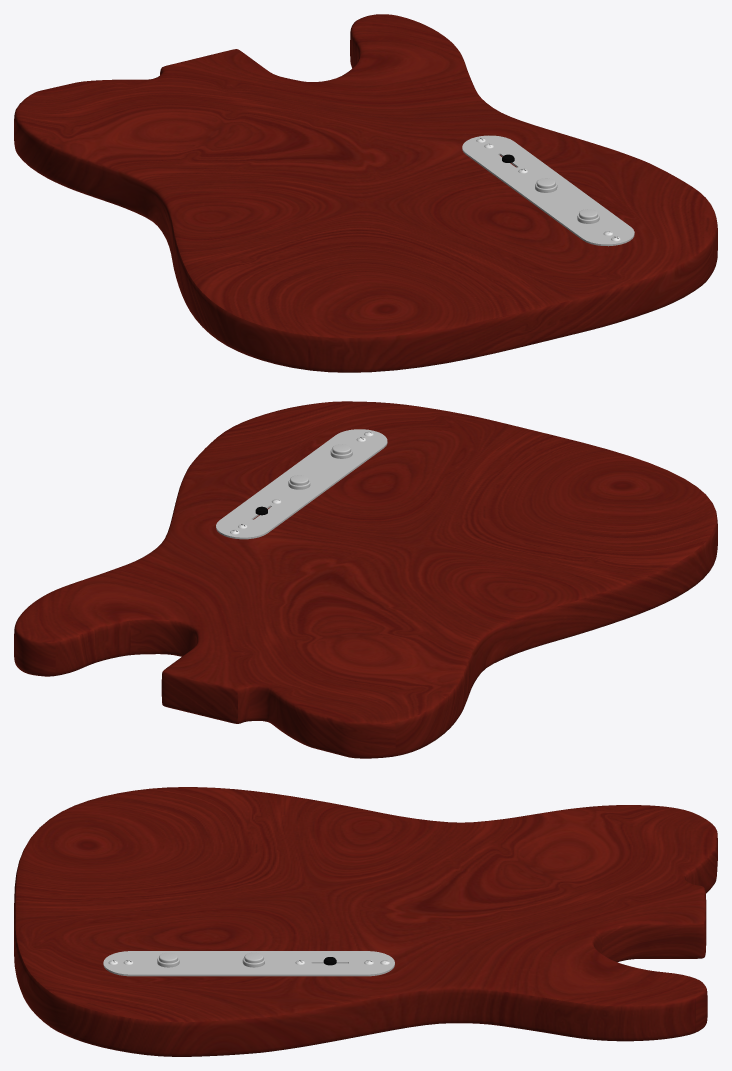
Rendered from Telecaster_Caoba.glb.
The picture shows the model from 3 angles, top to bottom: view 1: azimuth 30°, elevation 25°; view 2: azimuth 150°, elevation 25°; view 3: azimuth 270°, elevation 25°; orthographic projection.
Parts seen in each view (by area): view 1: Telecaster_Caoba; view 2: Telecaster_Caoba; view 3: Telecaster_Caoba.
Part boxes in pixels (box(x1,y1,x2,y2)): Telecaster_Caoba: box(14, 14, 717, 372); Telecaster_Caoba: box(14, 401, 717, 758); Telecaster_Caoba: box(14, 787, 717, 1056).
Size of the model in its own units: 1.84 by 0.1662 by 2.32.
Materials: 4 (1 with a texture image).
